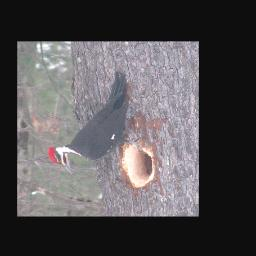Woodpecker: (46, 71, 147, 174)
